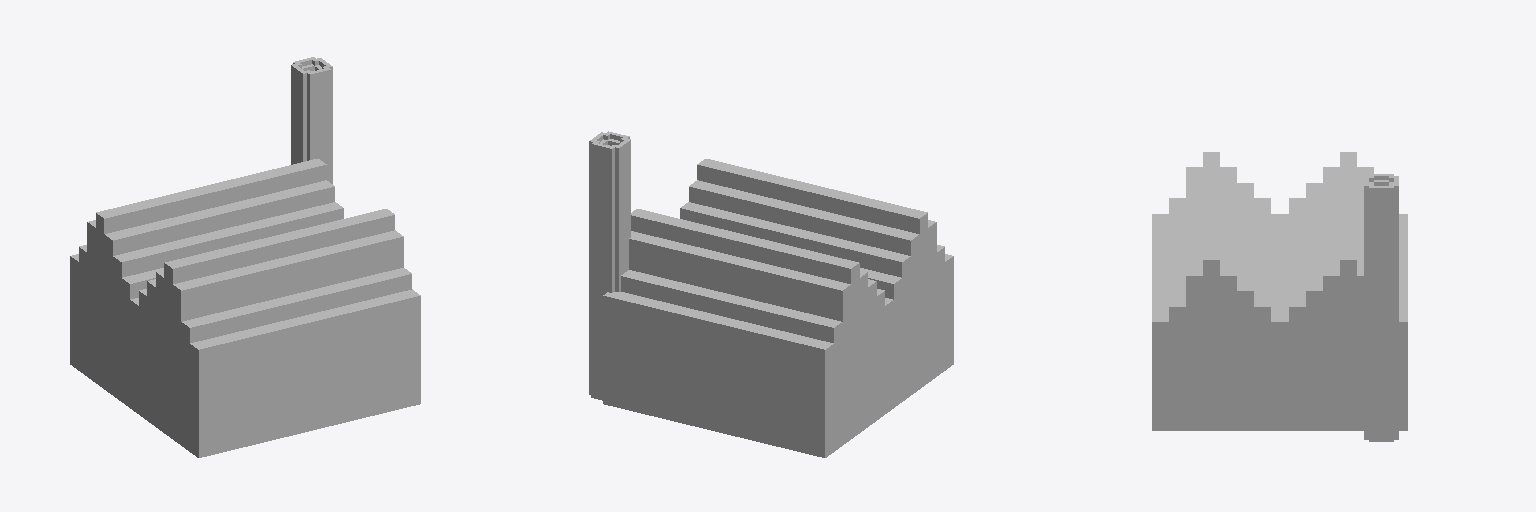
Rendered from energyfactory.obj.
3 views of the same model, side by side, from view 1: azimuth 30°, elevation 25°; view 2: azimuth 150°, elevation 25°; view 3: azimuth 270°, elevation 25° (orthographic).
Parts seen in each view (by area): view 1: Cube, Cylinder; view 2: Cube, Cylinder; view 3: Cube, Cylinder.
Part boxes in pixels (x1,y1,x2,y2): Cube: (70,159,420,457); Cylinder: (291,57,332,183); Cube: (603,159,953,457); Cylinder: (589,131,630,400); Cube: (1152,152,1407,430); Cylinder: (1364,174,1398,441).
Bounding box in the file's own units: 2.28 × 2.27 × 2.08.